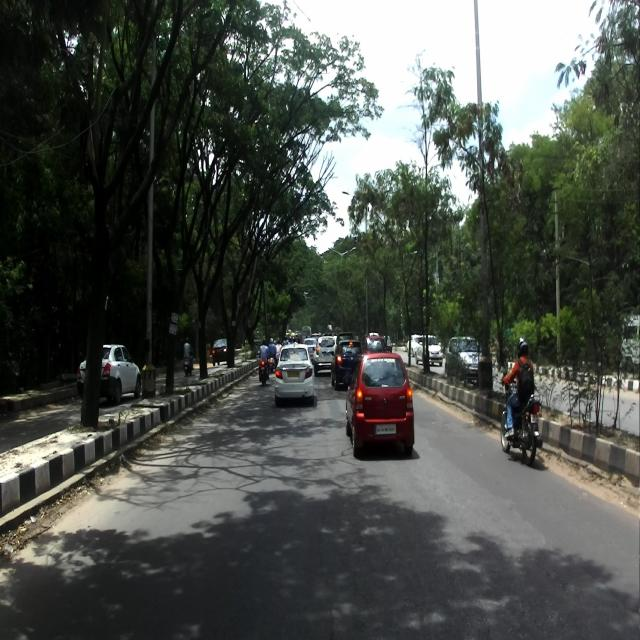car: (342, 352, 414, 458), (77, 341, 142, 402), (274, 336, 315, 408)
motorcycle: (500, 376, 542, 465)
